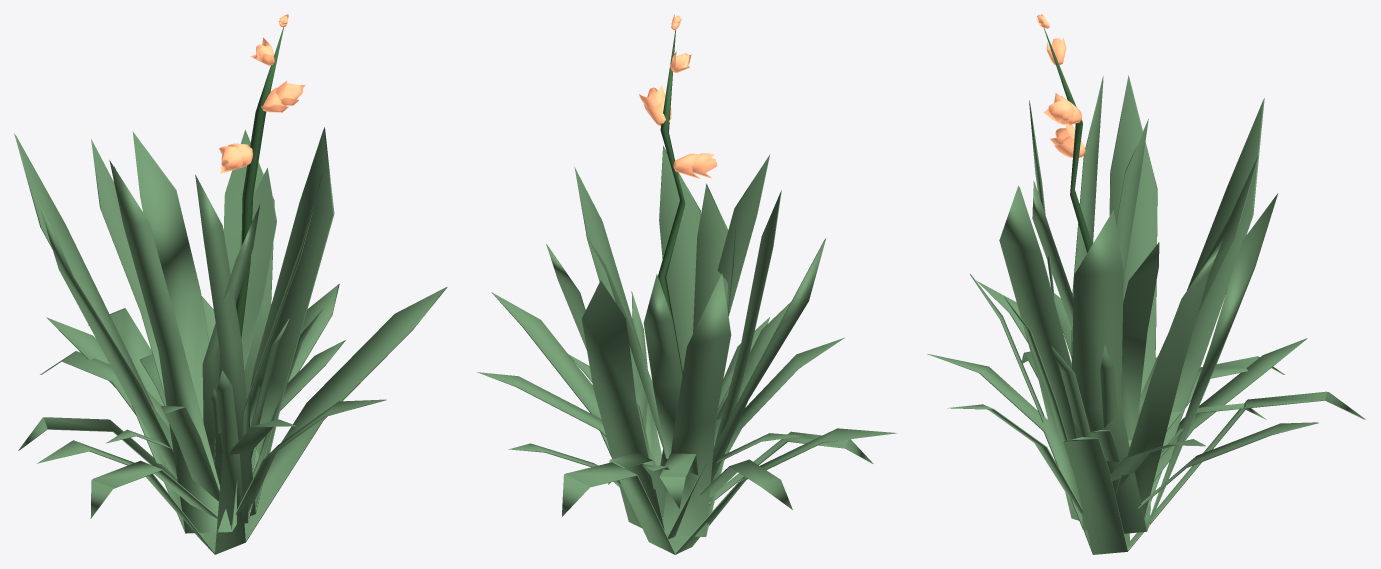
Rendered from Hartke plant.fbx.
The picture shows the model from 3 angles, left to right: view 1: azimuth 30°, elevation 25°; view 2: azimuth 150°, elevation 25°; view 3: azimuth 270°, elevation 25°; orthographic projection. The views are drawn at different scales.
Parts seen in each view (by area): view 1: Plane_006, Plane_007; view 2: Plane_006, Plane_007; view 3: Plane_006, Plane_007.
Part boxes in pixels (x1,y1,x2,y2): Plane_006: (14, 127, 447, 554); Plane_007: (212, 14, 305, 485); Plane_006: (477, 146, 896, 554); Plane_007: (639, 14, 717, 374); Plane_006: (927, 75, 1365, 554); Plane_007: (1036, 14, 1092, 252).
Size of the model in its own units: 0.3387 by 0.4159 by 0.2995.
